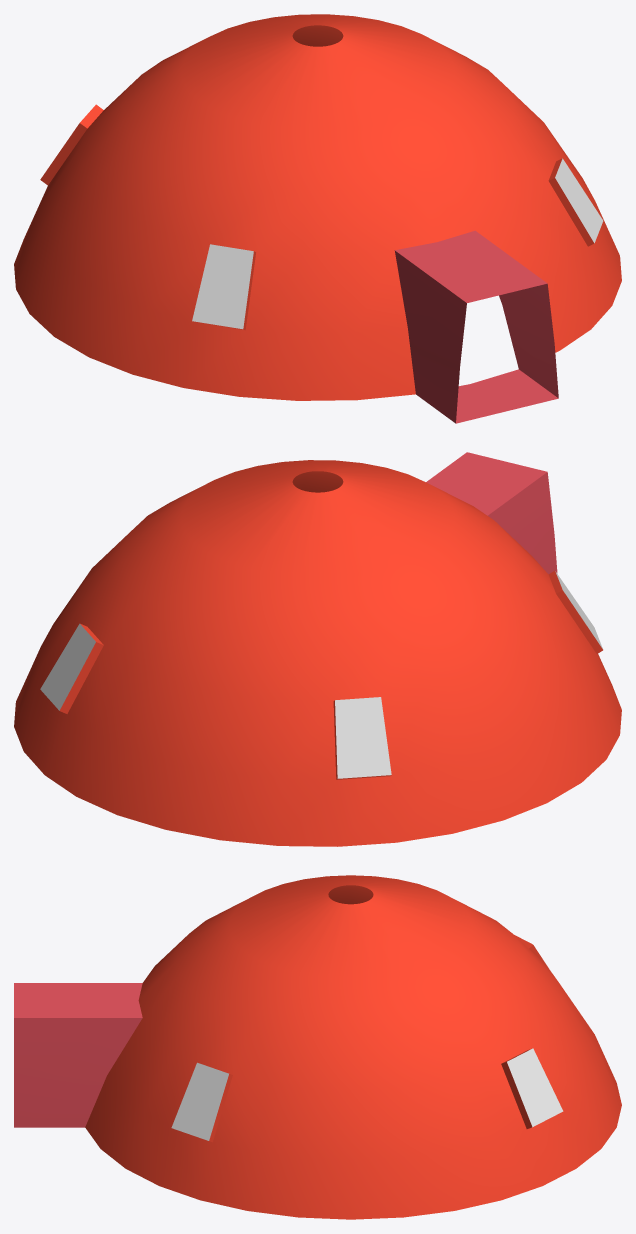
The model's file is wallBasotho.fbx.
3 views of the same model, one above another, from view 1: azimuth 30°, elevation 25°; view 2: azimuth 150°, elevation 25°; view 3: azimuth 270°, elevation 25° (orthographic). The views are drawn at different scales.
Parts seen in each view (by area): view 1: WallBasotho; view 2: WallBasotho; view 3: WallBasotho.
Part boxes in pixels (bbox=[...]): WallBasotho: bbox=[14, 14, 621, 423]; WallBasotho: bbox=[14, 452, 621, 846]; WallBasotho: bbox=[14, 875, 621, 1219].
Size of the model in its own units: 280 by 120 by 314.
